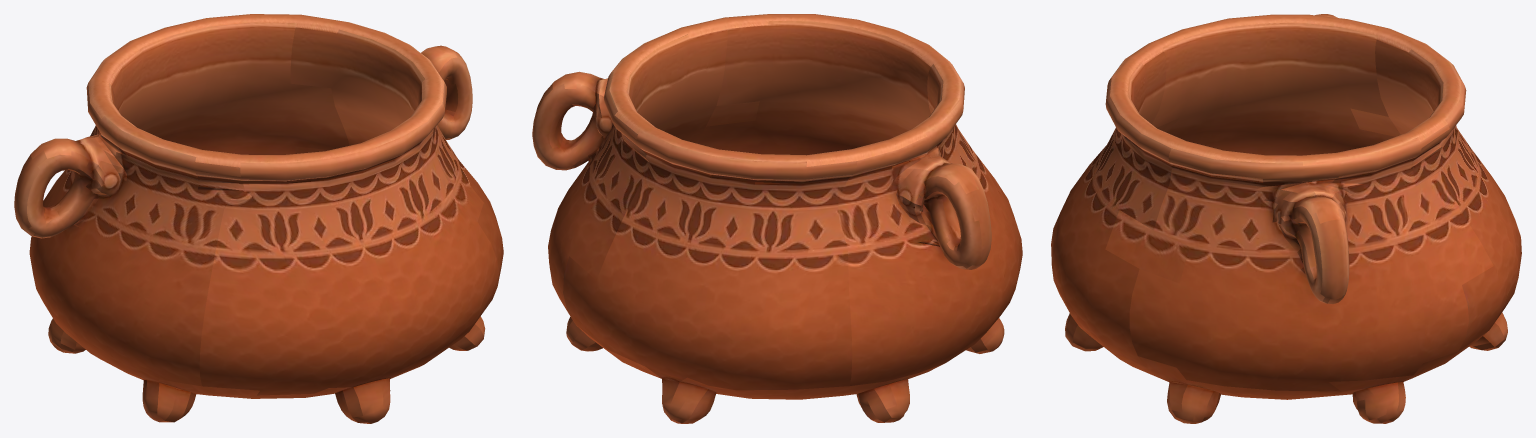
Rendered from tencere.glb.
The picture shows the model from 3 angles, left to right: view 1: azimuth 30°, elevation 25°; view 2: azimuth 150°, elevation 25°; view 3: azimuth 270°, elevation 25°; orthographic projection.
Parts seen in each view (by area): view 1: Mesh0; view 2: Mesh0; view 3: Mesh0.
Part boxes in pixels (left/top/right/bottom): Mesh0: left=14, top=14, right=503, bottom=423; Mesh0: left=532, top=14, right=1022, bottom=423; Mesh0: left=1051, top=14, right=1521, bottom=423.
Size of the model in its own units: 1.9 by 1.05 by 1.71.
Materials: 1 (1 with a texture image).
